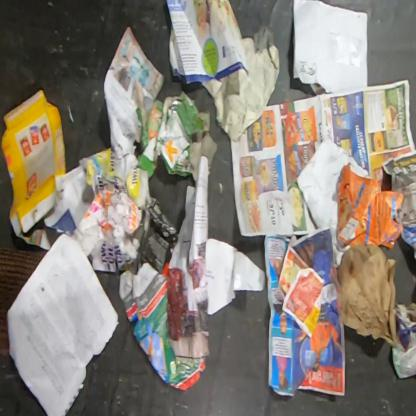cardboard: (1, 89, 66, 239), (0, 245, 51, 356)
metal: (166, 99, 182, 121)
